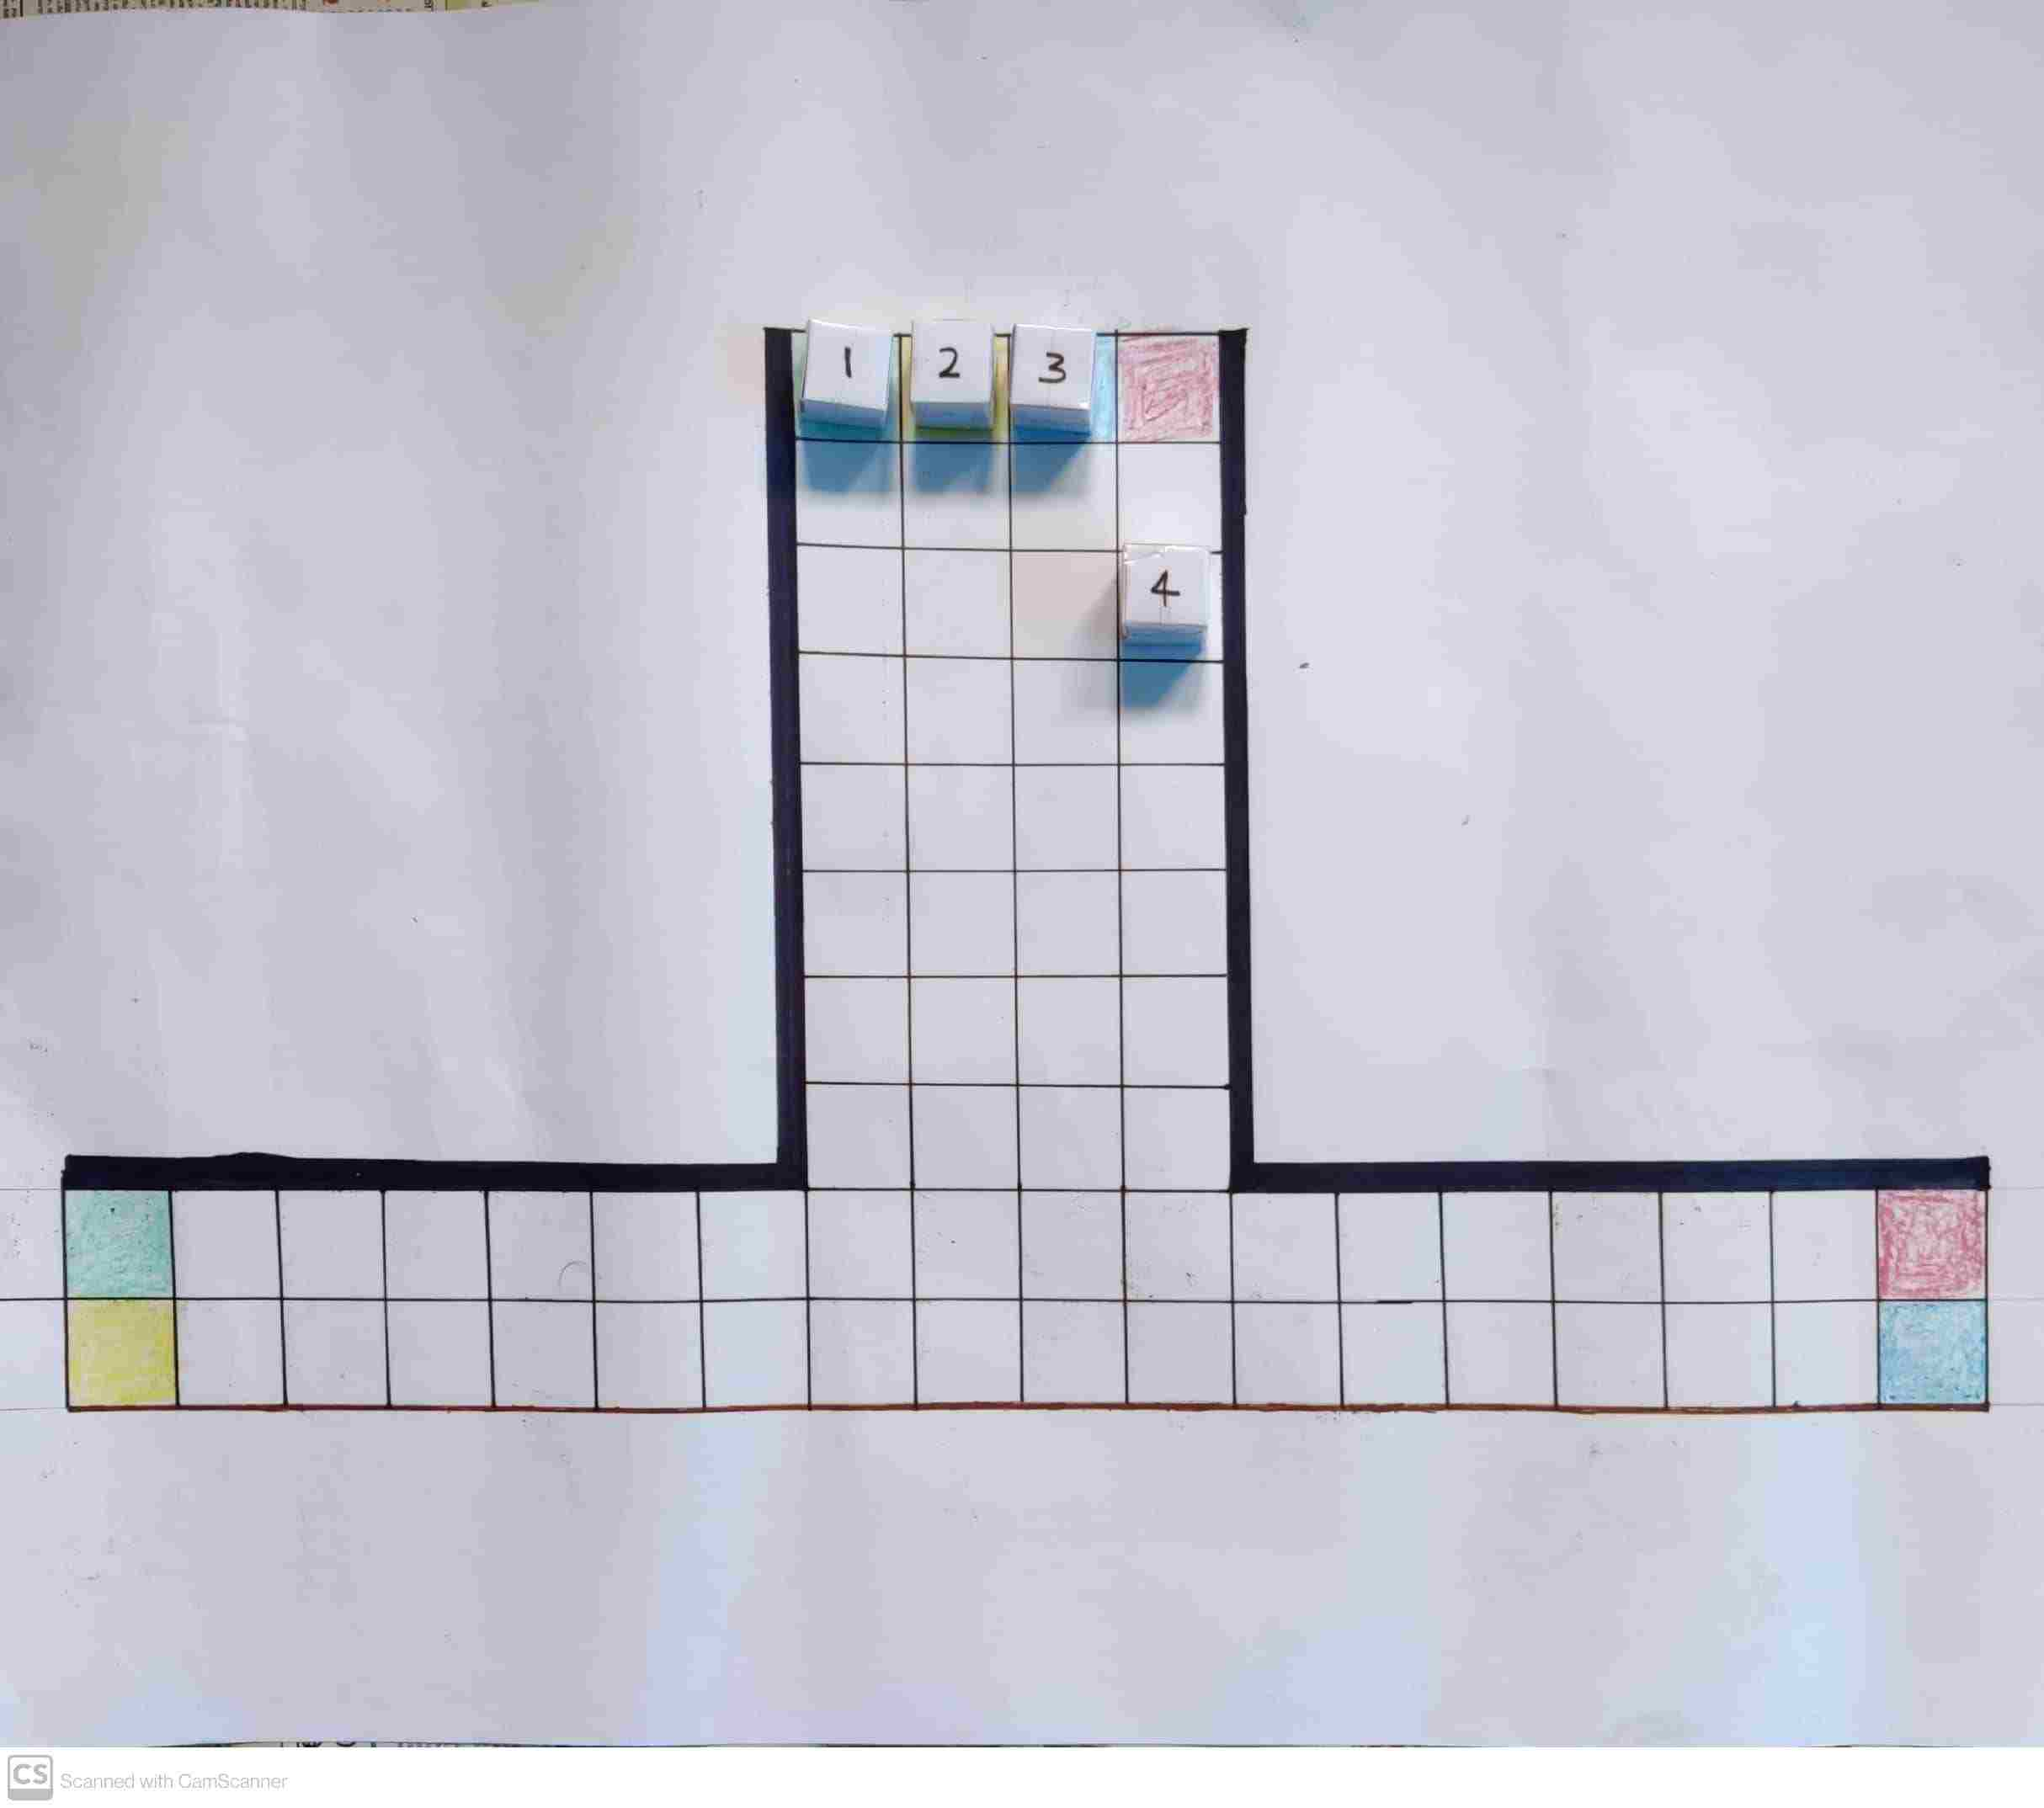arena: (63, 323, 1986, 1408)
bot: (1014, 318, 1096, 405), (808, 326, 895, 407), (913, 326, 995, 407), (1128, 550, 1206, 628)
